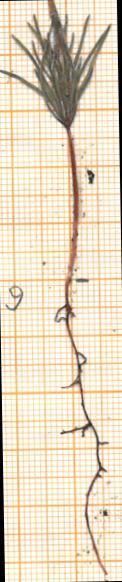flower: (0, 0, 115, 129)
root: (53, 280, 118, 576)
stem: (62, 128, 85, 278)
